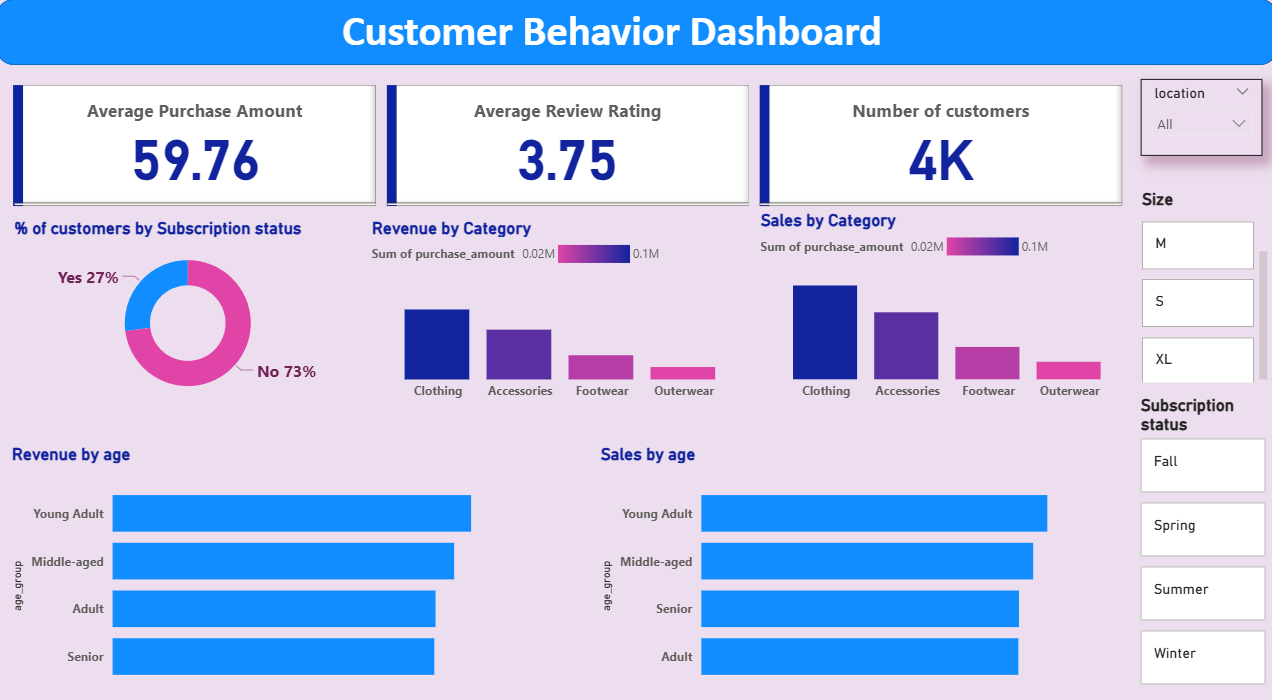

This screenshot's page, from the dashboard's own definition file:
{"tool":"powerbi","page":{"name":"Page 1","canvas":[1280,720],"ordinal":0},"visuals":[{"type":"cardVisual","fields":{"Data":["public customer.Average Purchase Amount","public customer.Average Review Rating","public customer.Number of customers"]},"box":[11.6,81,1121.9,131.1],"z":0},{"type":"shape","box":[0,0,1279.9,66],"z":1000},{"type":"textbox","box":[339.8,0,812.9,81.9],"z":2000},{"type":"donutChart","title":"% of customers by Subscription status","fields":{"Category":["public customer.subscription_status"],"Y":["public customer.Number of customers"]},"box":[12.2,218.8,356.9,191.9],"z":3000},{"type":"clusteredColumnChart","title":"Revenue by Category","fields":{"Y":["Sum(public customer.purchase_amount)"],"Category":["public customer.category"]},"box":[370.4,218.8,388.7,191.9],"z":3001},{"type":"clusteredColumnChart","title":"Sales by Category","fields":{"Category":["public customer.category"],"Y":["public customer.Number of customers"]},"box":[759.1,211.5,385.1,199.3],"z":3002},{"type":"slicer","fields":{"Values":["public customer.location"]},"box":[1139.3,80.7,135.7,75.8],"z":3003},{"type":"advancedSlicerVisual","title":"Subscription status","fields":{"Values":["public customer.subscription_status"]},"box":[1139.3,189.5,135.7,171.1],"z":3004},{"type":"advancedSlicerVisual","title":"Subscription status","fields":{"Values":["public customer.season"]},"box":[1139.3,396.1,135.7,297],"z":3005},{"type":"clusteredBarChart","title":"Revenue by age","fields":{"Y":["Sum(public customer.purchase_amount)"],"Category":["public customer.age_group"]},"box":[9.8,445,514.6,256.7],"z":3006},{"type":"clusteredBarChart","title":"Sales by age","fields":{"Category":["public customer.age_group"],"Y":["CountNonNull(public customer.customer_id)"]},"box":[599,445,514.6,256.7],"z":3007}]}

Visuals, with their boxes in screenshot pixels (x1, y1, x2, y2), scaled from the page's 1280x720 canvas onto the 1272x700 screenshot:
cardVisual - public customer.Average Purchase Amount x public customer.Average Review Rating: BBox(12, 79, 1126, 206)
shape: BBox(0, 0, 1271, 64)
textbox: BBox(338, 0, 1145, 80)
"% of customers by Subscription status" donutChart: BBox(12, 213, 367, 399)
"Revenue by Category" clusteredColumnChart: BBox(368, 213, 754, 399)
"Sales by Category" clusteredColumnChart: BBox(754, 206, 1137, 399)
slicer - public customer.location: BBox(1132, 78, 1267, 152)
"Subscription status" advancedSlicerVisual: BBox(1132, 184, 1267, 351)
"Subscription status" advancedSlicerVisual: BBox(1132, 385, 1267, 674)
"Revenue by age" clusteredBarChart: BBox(10, 433, 521, 682)
"Sales by age" clusteredBarChart: BBox(595, 433, 1107, 682)
